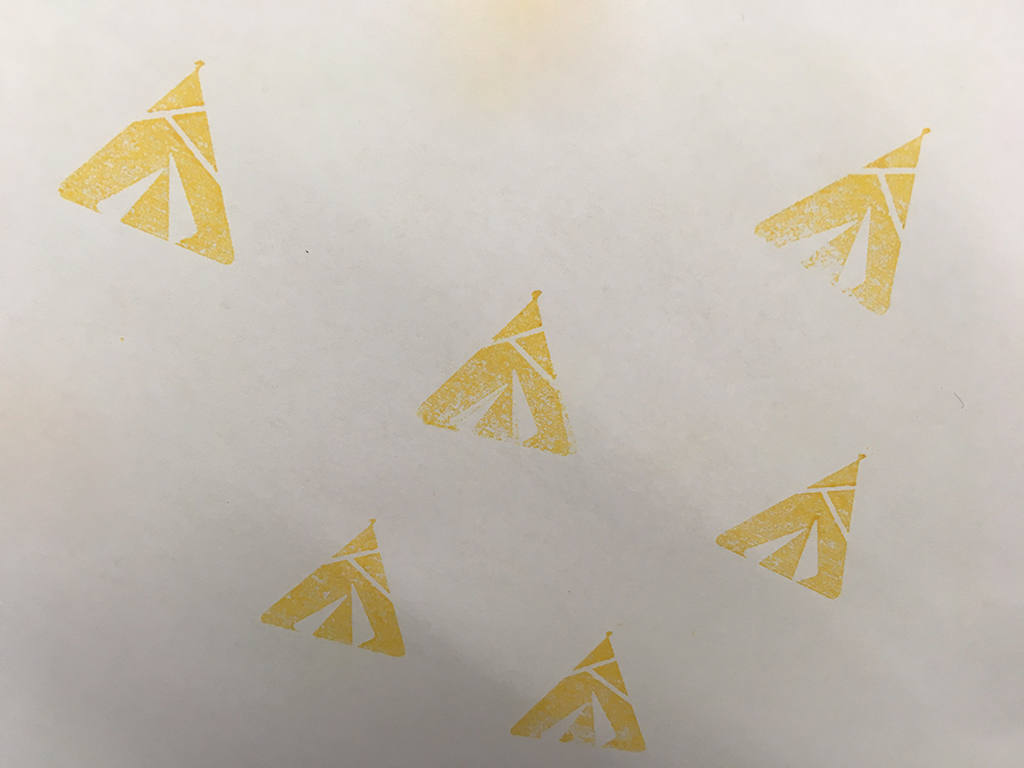tent: (46, 47, 246, 277), (744, 113, 941, 329), (413, 275, 596, 466), (255, 494, 423, 669), (714, 433, 876, 607), (495, 617, 657, 758)
